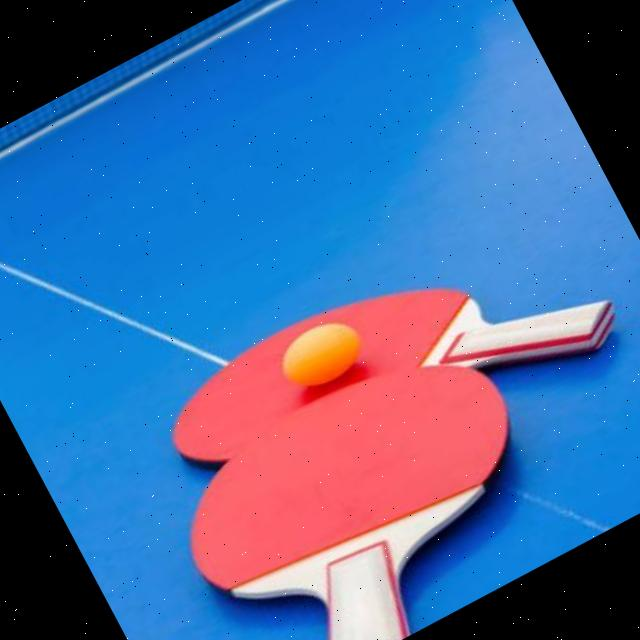ping-pong-ball: (273, 311, 365, 398)
